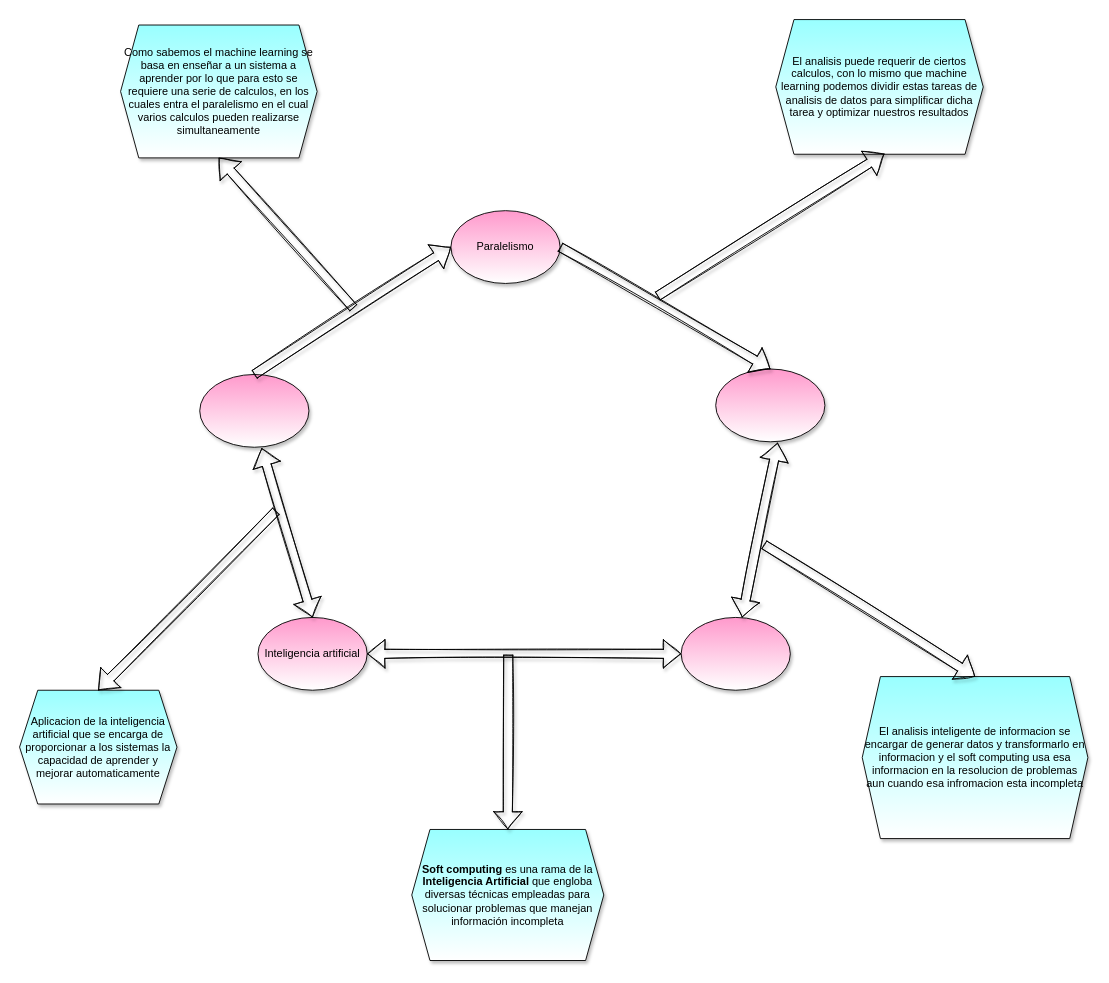
Some shapes in this 1109 by 983 pixel diagram are drawn without their labels. Each missing label, with the centre of its shape:
"Analisis inteligente de datos" belongs at (x=770, y=406).
"Machine Learning" belongs at (x=254, y=412).
"Soft Computing" belongs at (x=736, y=655).
